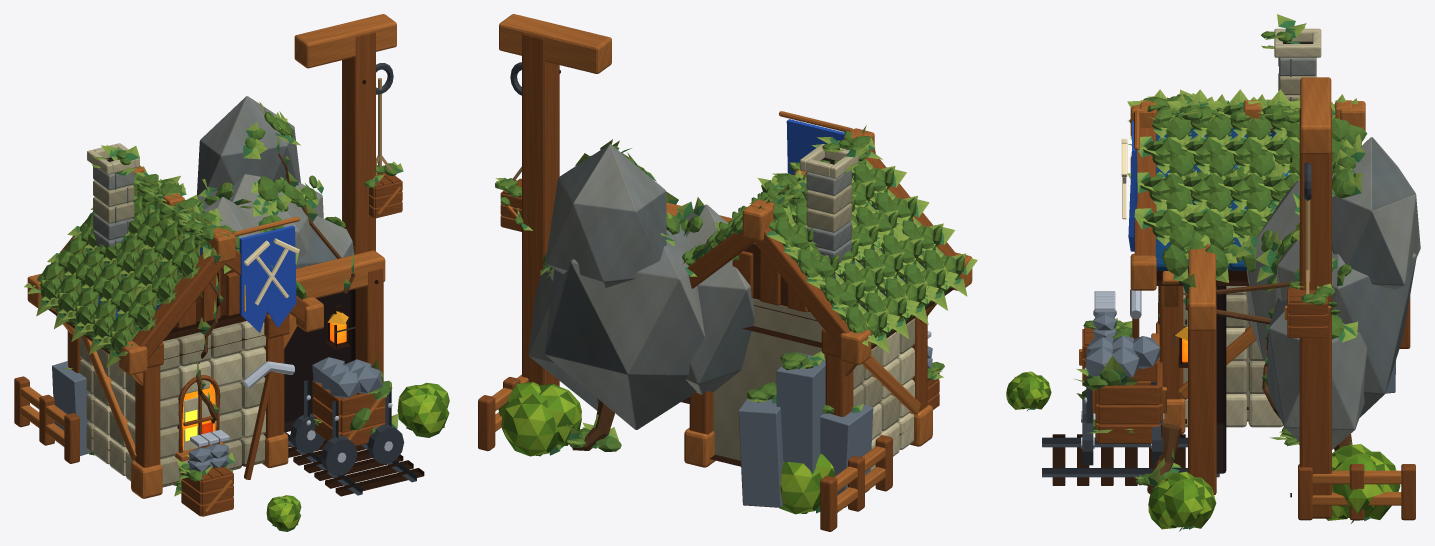
Rendered from metal_mine.glb.
3 views of the same model, side by side, from view 1: azimuth 30°, elevation 25°; view 2: azimuth 150°, elevation 25°; view 3: azimuth 270°, elevation 25° (orthographic). The views are drawn at different scales.
Visible parts, largest first — view 1: Runtime surface 016, Runtime surface 012, Runtime surface 003, Runtime surface 027, Runtime surface 028, Runtime surface 022, Runtime surface 011, Runtime surface 004, Runtime surface 001, Runtime surface 005, Runtime surface 000, Runtime surface 026 (+14 smaller); view 2: Runtime surface 016, Runtime surface 000, Runtime surface 001, Runtime surface 012, Runtime surface 003, Runtime surface 022, Runtime surface 027, Runtime surface 002, Runtime surface 011, Runtime surface 028, Runtime surface 042, Runtime surface 037 (+10 smaller); view 3: Runtime surface 016, Runtime surface 012, Runtime surface 003, Runtime surface 001, Runtime surface 002, Runtime surface 000, Runtime surface 011, Runtime surface 042, Runtime surface 024, Runtime surface 004, Runtime surface 041, Runtime surface 028 (+15 smaller).
Boxes of the visible parts, left/top/right/bottom form: Runtime surface 016: left=14, top=31, right=383, bottom=479; Runtime surface 012: left=37, top=163, right=398, bottom=481; Runtime surface 003: left=20, top=14, right=396, bottom=498; Runtime surface 027: left=79, top=180, right=265, bottom=487; Runtime surface 028: left=87, top=143, right=265, bottom=481; Runtime surface 022: left=52, top=331, right=382, bottom=471; Runtime surface 011: left=24, top=161, right=444, bottom=524; Runtime surface 004: left=285, top=63, right=416, bottom=495; Runtime surface 001: left=93, top=96, right=352, bottom=262; Runtime surface 005: left=239, top=225, right=296, bottom=332; Runtime surface 000: left=93, top=96, right=354, bottom=257; Runtime surface 026: left=106, top=157, right=355, bottom=432; Runtime surface 016: left=478, top=33, right=955, bottom=531; Runtime surface 000: left=528, top=144, right=851, bottom=429; Runtime surface 001: left=528, top=144, right=851, bottom=429; Runtime surface 012: left=495, top=130, right=964, bottom=380; Runtime surface 003: left=492, top=14, right=972, bottom=512; Runtime surface 022: left=738, top=346, right=932, bottom=507; Runtime surface 027: left=713, top=185, right=914, bottom=460; Runtime surface 002: left=545, top=144, right=754, bottom=404; Runtime surface 011: left=495, top=125, right=977, bottom=513; Runtime surface 028: left=800, top=144, right=914, bottom=470; Runtime surface 042: left=543, top=136, right=894, bottom=451; Runtime surface 037: left=498, top=382, right=833, bottom=514; Runtime surface 016: left=1132, top=108, right=1415, bottom=520; Runtime surface 012: left=1082, top=104, right=1352, bottom=433; Runtime surface 003: left=1130, top=77, right=1401, bottom=505; Runtime surface 001: left=1246, top=57, right=1420, bottom=449; Runtime surface 002: left=1267, top=57, right=1416, bottom=426; Runtime surface 000: left=1263, top=137, right=1416, bottom=431; Runtime surface 011: left=1028, top=89, right=1370, bottom=529; Runtime surface 042: left=1135, top=31, right=1367, bottom=485; Runtime surface 024: left=1095, top=361, right=1162, bottom=443; Runtime surface 004: left=1042, top=162, right=1311, bottom=477; Runtime surface 041: left=1129, top=14, right=1365, bottom=483; Runtime surface 028: left=1183, top=28, right=1321, bottom=427.
Size of the model in its own units: 4.36 by 4.26 by 3.8.
42 materials, 33 textured.
